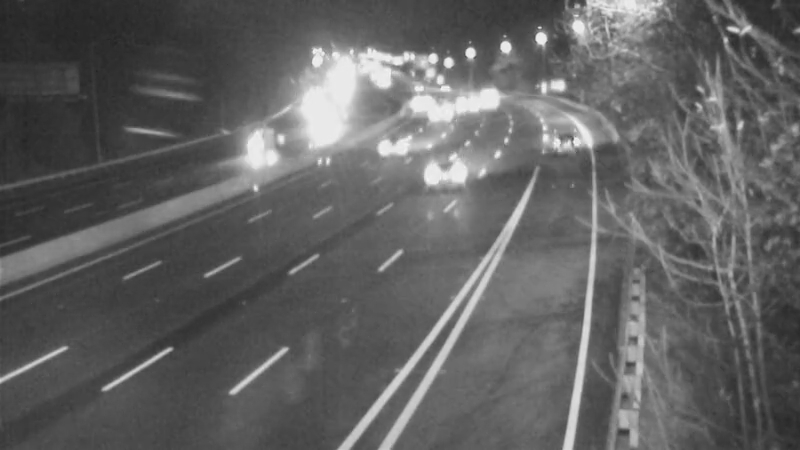vehicle: (409, 135, 489, 215), (456, 79, 506, 129), (394, 76, 444, 126), (440, 80, 490, 130), (414, 87, 464, 137), (532, 121, 582, 171), (376, 119, 426, 169), (237, 124, 287, 174), (296, 108, 346, 158)
